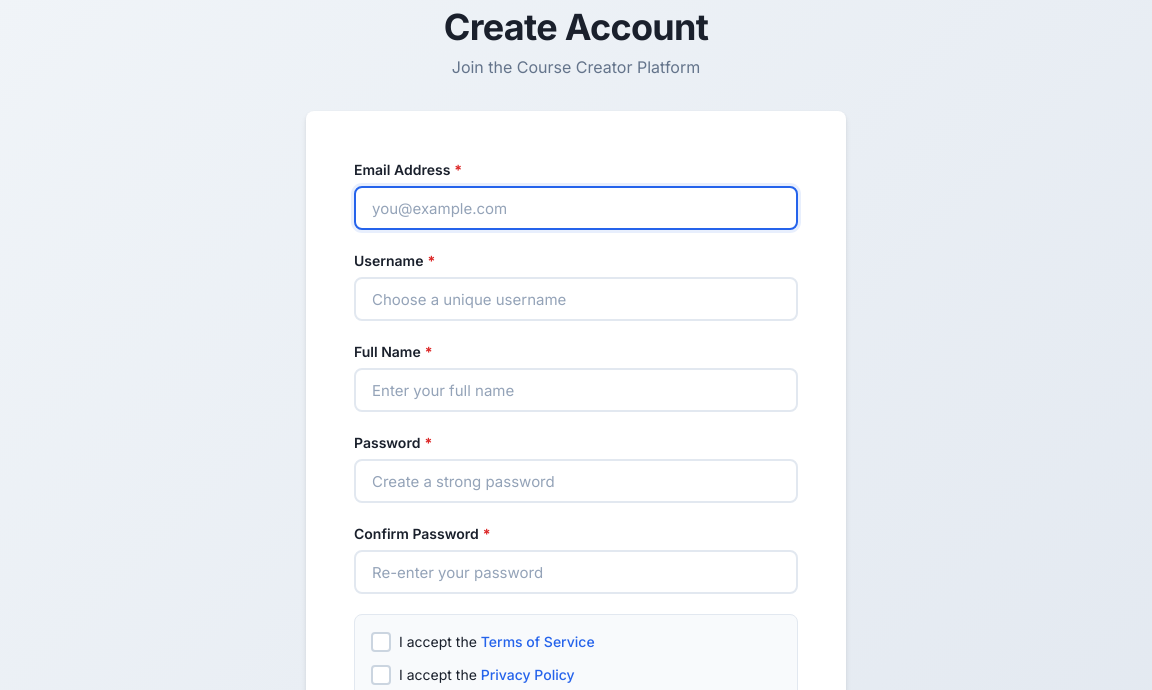
Test: RegistrationPage Component › Form Validation - Terms Acceptance › shows error when terms not accepted
In the field labelled "Email Address*": (576, 208) [354,186,798,230], type "test@example.com"
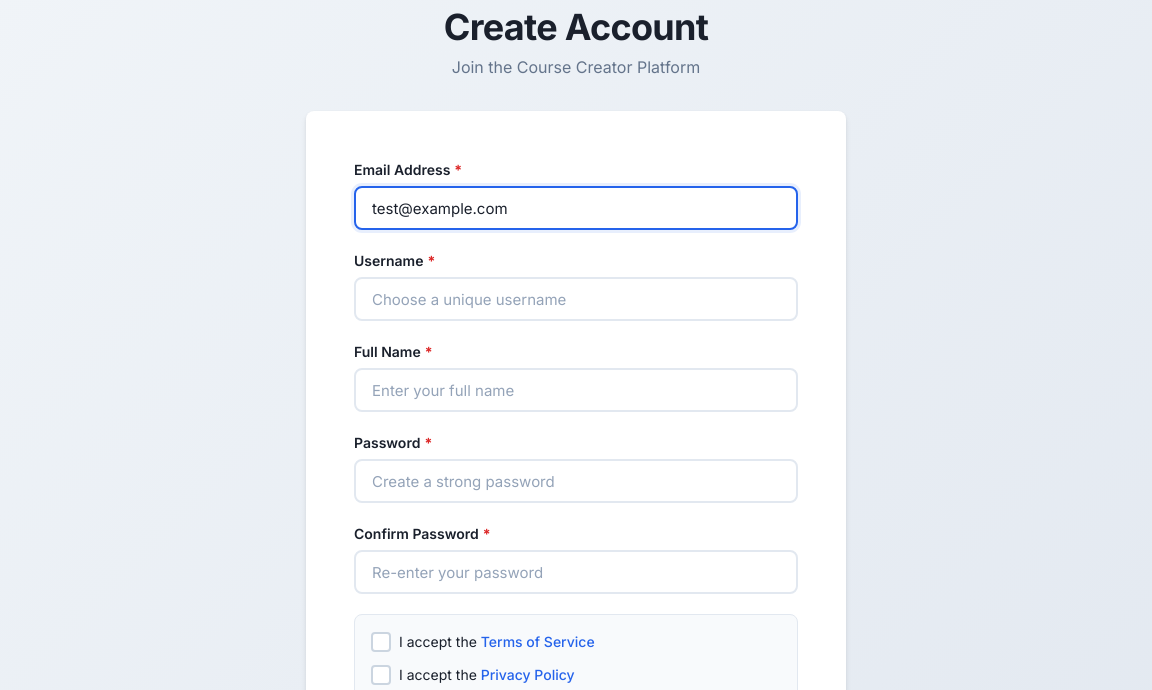
In the field labelled "Username*": (576, 299) [354,277,798,321], type "testuser"
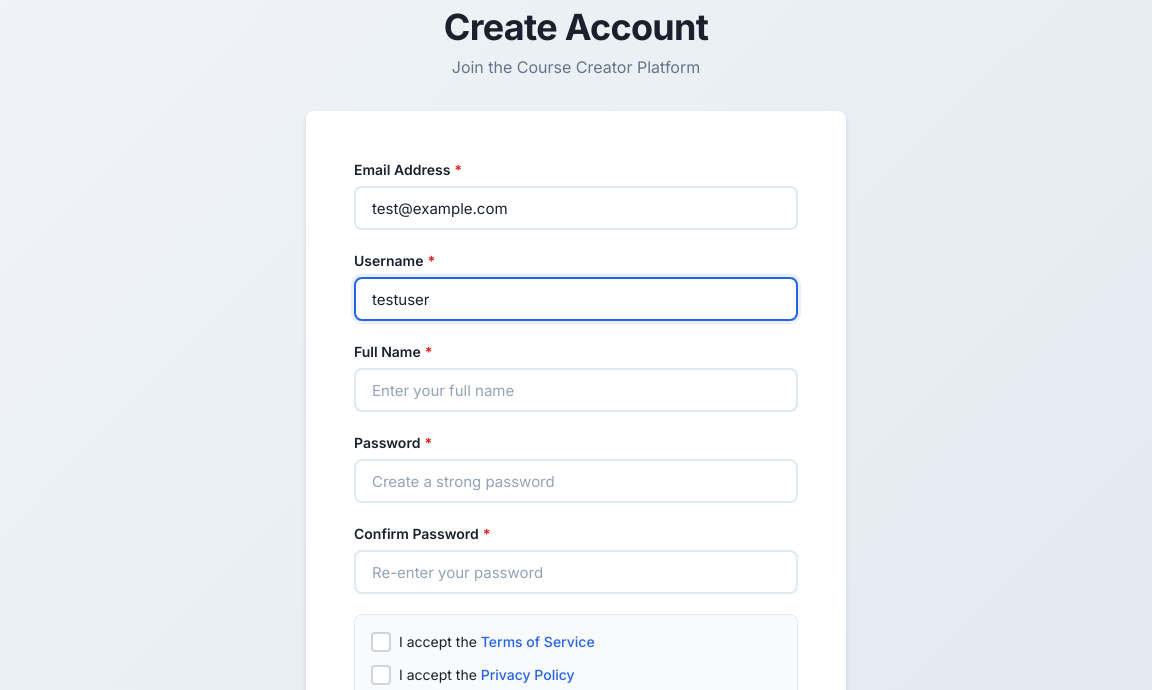
In the password field labelled "Password*": (576, 481) [354,459,798,503], type "Password123"
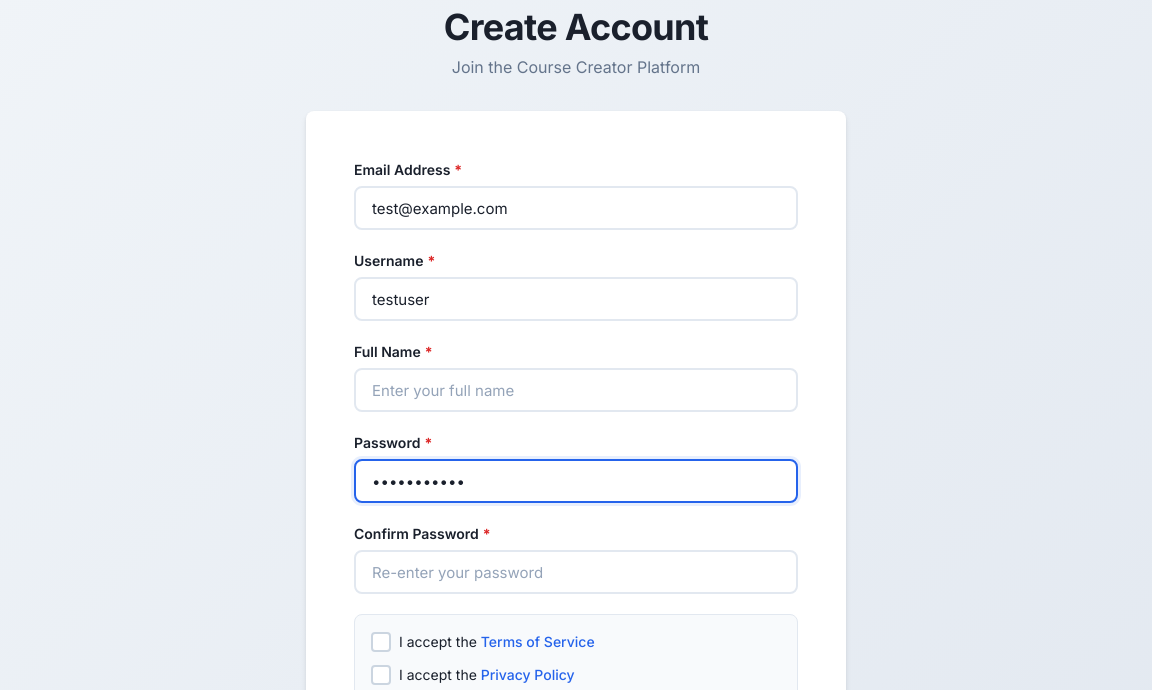
In the password field labelled "Confirm Password*": (576, 572) [354,550,798,594], type "Password123"
(page scrolled)
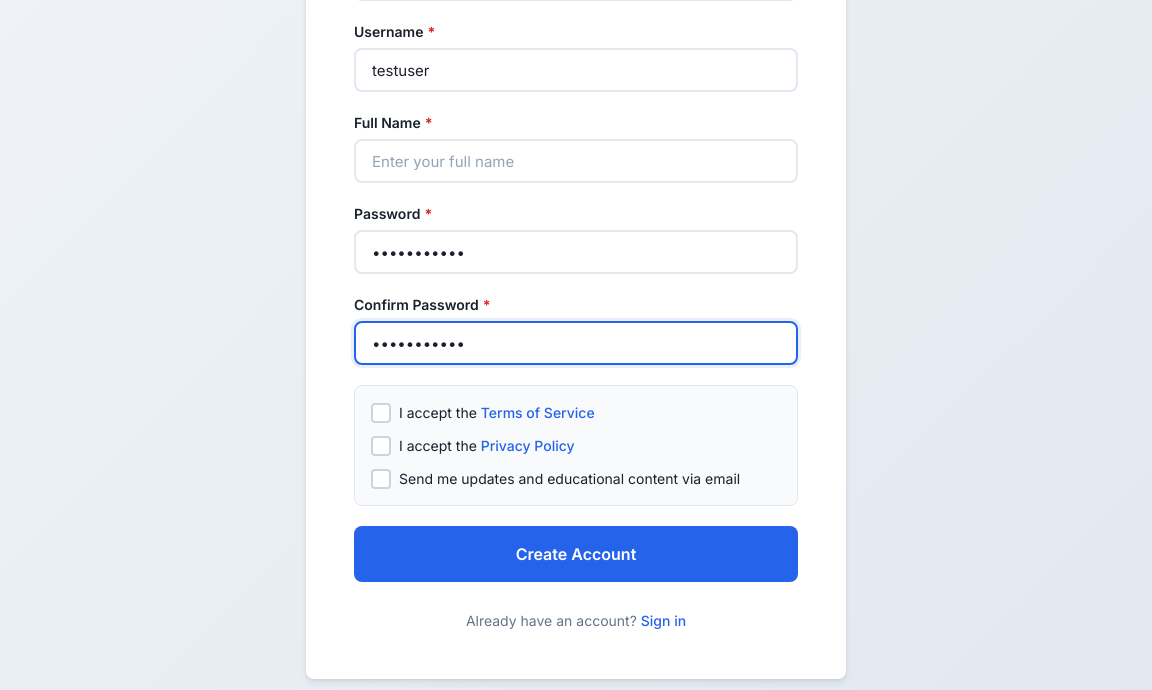
Click the button "Create Account": (576, 554) [354,526,798,582]
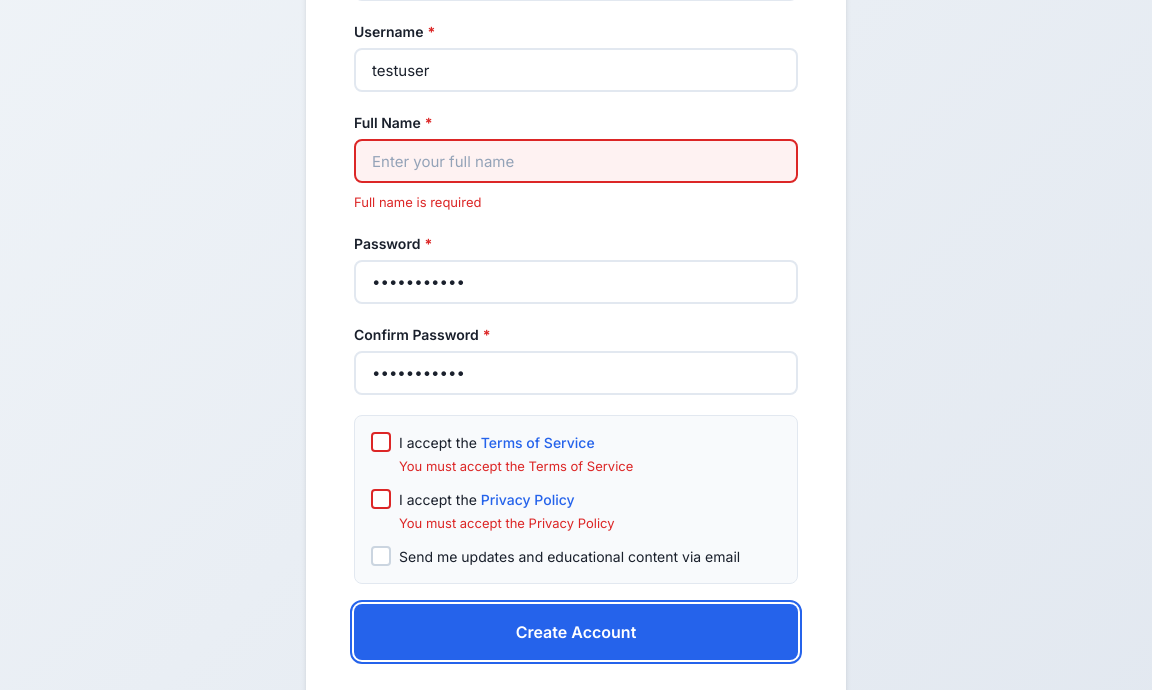
Check: the text "You must accept the Terms of Service" is shown, box [399,458,633,474]
